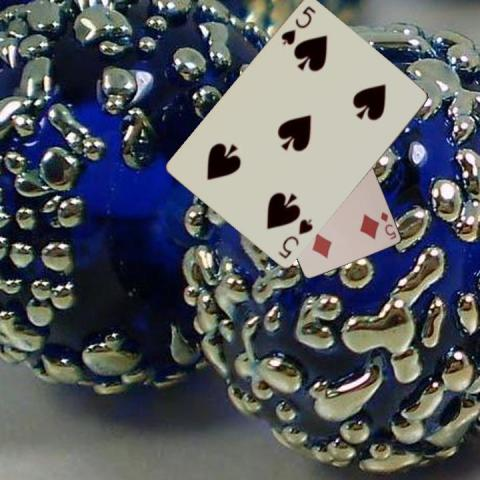5d: (377, 208, 398, 241)
5s: (275, 215, 315, 261), (278, 3, 317, 47)
